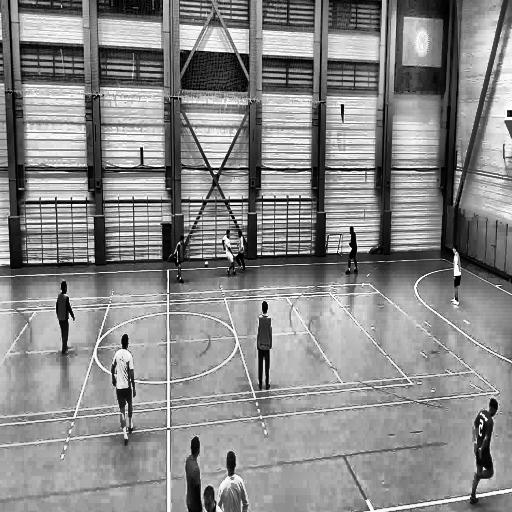ball: (202, 258, 210, 268)
player: (469, 396, 499, 507), (112, 334, 137, 448), (216, 449, 248, 512), (53, 280, 75, 361), (255, 301, 272, 393), (186, 433, 202, 512), (448, 244, 464, 308), (344, 225, 360, 277), (172, 234, 186, 285), (222, 230, 236, 279), (235, 228, 246, 274)
